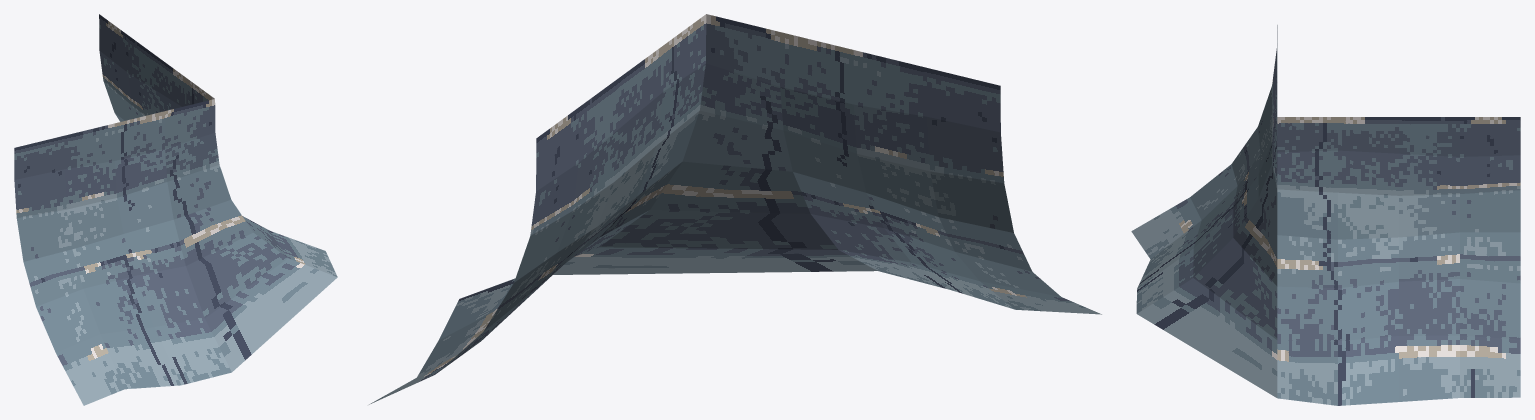
Rendered from TER-07_Escarpe_esq_ext.gltf.
3 renders of one model, left to right at view 1: azimuth 30°, elevation 25°; view 2: azimuth 150°, elevation 25°; view 3: azimuth 270°, elevation 25°, orthographic. The views are drawn at different scales.
Parts seen in each view (by area): view 1: TER-07_Escarpe_esq_ext-col; view 2: TER-07_Escarpe_esq_ext-col; view 3: TER-07_Escarpe_esq_ext-col.
Boxes of the visible parts, x1,y1,x2,y2 form: TER-07_Escarpe_esq_ext-col: (14, 14, 337, 405); TER-07_Escarpe_esq_ext-col: (369, 14, 1101, 404); TER-07_Escarpe_esq_ext-col: (1131, 25, 1520, 405).
Bounding box in the file's own units: 3.39 × 2.03 × 3.2.
Materials: 1 (1 with a texture image).
